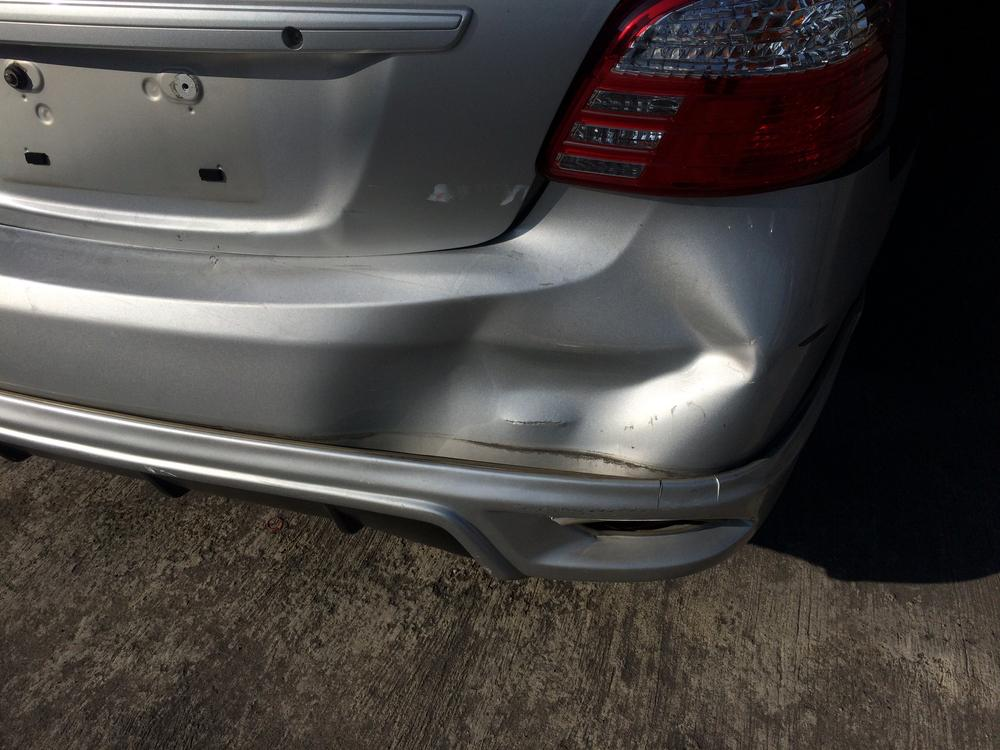dent: (312, 224, 758, 478)
